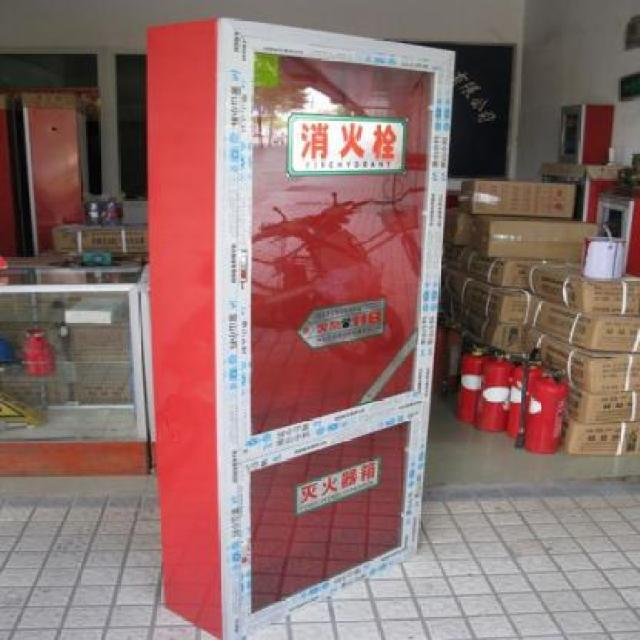firehydrant: (142, 11, 462, 640)
